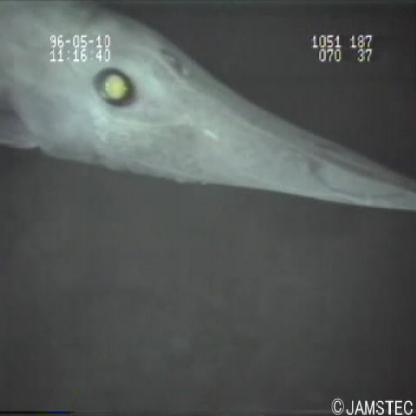Bio: (1, 2, 416, 216)
